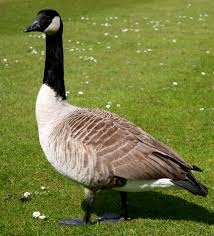goose: (19, 6, 211, 231)
